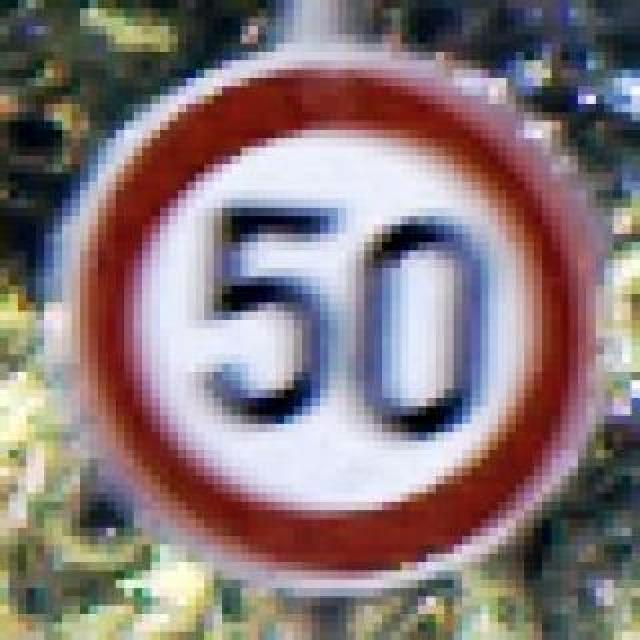50 kph: (54, 36, 596, 588)
